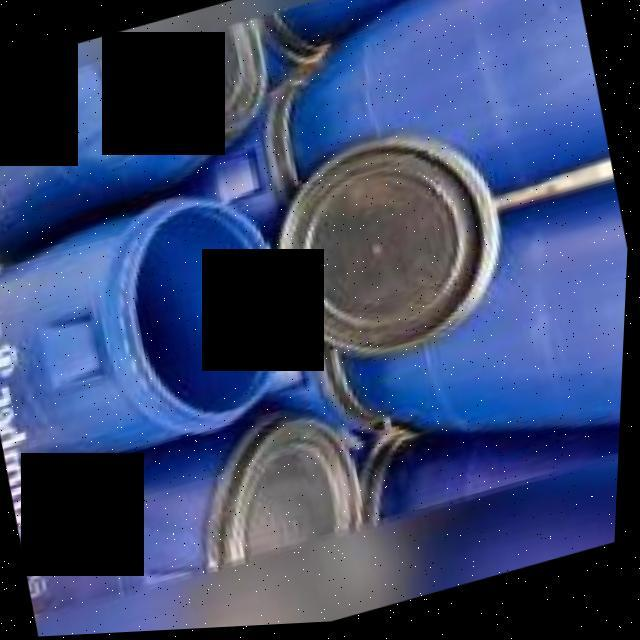bin: (0, 164, 311, 487), (9, 398, 380, 623), (0, 15, 294, 255)
